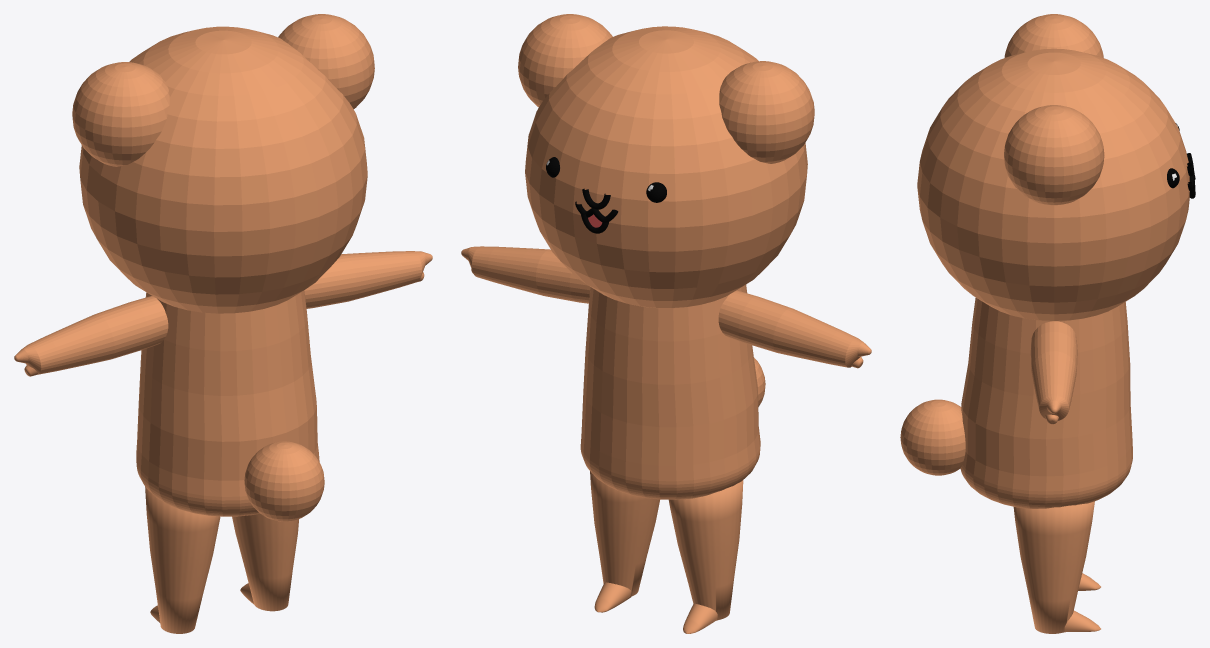
The model's file is kuma.fbx.
3 views of the same model, side by side, from view 1: azimuth 30°, elevation 25°; view 2: azimuth 150°, elevation 25°; view 3: azimuth 270°, elevation 25° (orthographic). The views are drawn at different scales.
Parts seen in each view (by area): view 1: 球, 円柱, 円柱.003, 円柱.004, 球.001, 円柱.005; view 2: 球, 円柱, 円柱.003, 円柱.004, 円柱.005, ベジエカーブ; view 3: 球, 円柱, 円柱.003, 球.001, 円柱.005.
Part boxes in pixels (box(x1,y1,x2,y2)): 球: box(72, 14, 374, 313); 円柱: box(136, 290, 319, 516); 円柱.003: box(145, 487, 298, 633); 円柱.004: box(14, 296, 168, 376); 球.001: box(244, 441, 324, 521); 円柱.005: box(304, 251, 432, 308); 球: box(518, 14, 814, 308); 円柱: box(580, 284, 760, 499); 円柱.003: box(590, 471, 743, 633); 円柱.004: box(718, 290, 871, 368); 円柱.005: box(461, 246, 590, 303); ベジエカーブ: box(575, 188, 618, 233); 球: box(917, 14, 1189, 320); 円柱: box(960, 298, 1132, 508); 円柱.003: box(1013, 501, 1100, 633); 球.001: box(900, 399, 965, 475); 円柱.005: box(1030, 321, 1077, 424).
Size of the model in its own units: 334 by 440 by 215.
